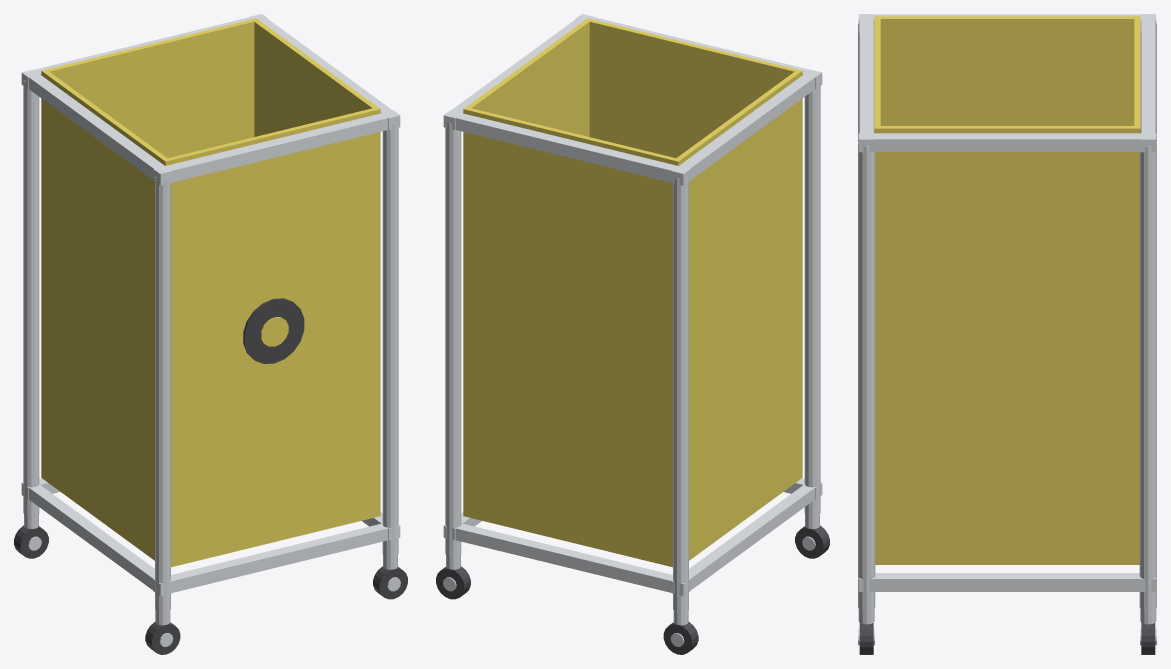
The model's file is operatingRoom_buscket.fbx.
3 renders of one model, left to right at view 1: azimuth 30°, elevation 25°; view 2: azimuth 150°, elevation 25°; view 3: azimuth 270°, elevation 25°, orthographic. The views are drawn at different scales.
Visible parts, largest first — view 1: 09_HamperAndIV_Intact_BiohazardHamper; view 2: 09_HamperAndIV_Intact_BiohazardHamper; view 3: 09_HamperAndIV_Intact_BiohazardHamper.
Boxes of the visible parts, x1=… form: 09_HamperAndIV_Intact_BiohazardHamper: x1=14, y1=14, x2=407, y2=654; 09_HamperAndIV_Intact_BiohazardHamper: x1=436, y1=14, x2=829, y2=654; 09_HamperAndIV_Intact_BiohazardHamper: x1=858, y1=14, x2=1156, y2=654.
Size of the model in its own units: 40.48 by 73.5 by 38.2.
